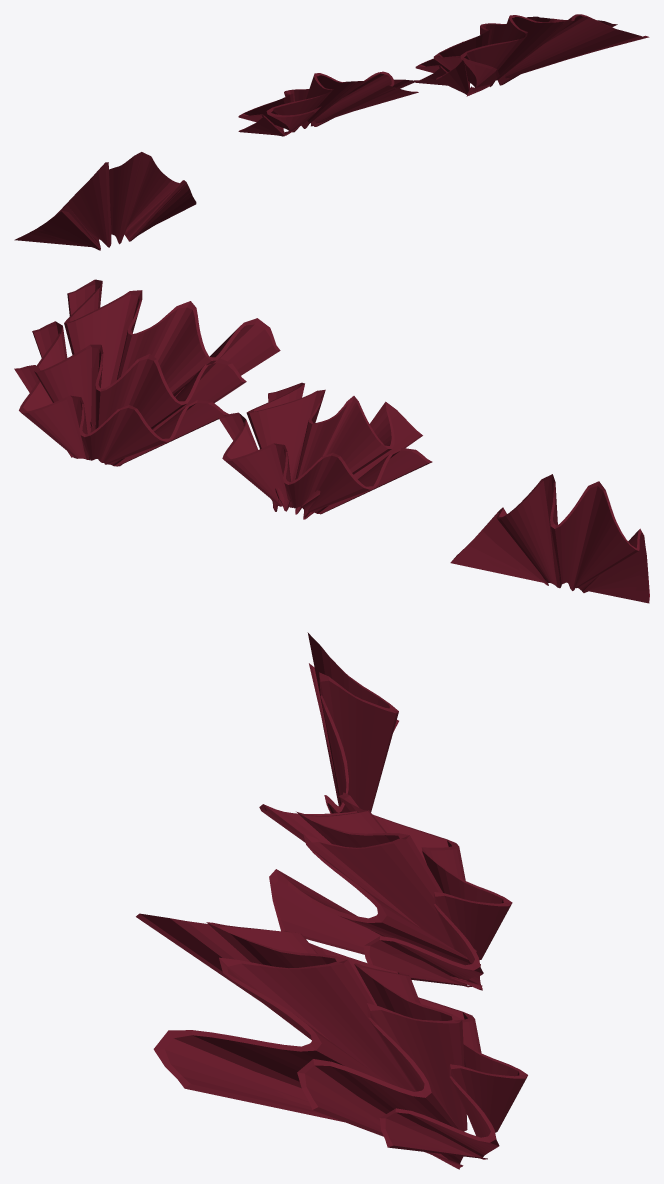
The model's file is CoralSet_05.fbx.
The picture shows the model from 3 angles, top to bottom: view 1: azimuth 30°, elevation 25°; view 2: azimuth 150°, elevation 25°; view 3: azimuth 270°, elevation 25°; orthographic projection. The views are drawn at different scales.
Parts seen in each view (by area): view 1: Coral_E_01, Coral_E_03, Coral_E_02; view 2: Coral_E_01, Coral_E_02, Coral_E_03; view 3: Coral_E_01, Coral_E_02, Coral_E_03.
Part boxes in pixels (left/top/right/bottom): Coral_E_01: left=415, top=14, right=649, bottom=96; Coral_E_03: left=14, top=152, right=196, bottom=250; Coral_E_02: left=238, top=71, right=418, bottom=136; Coral_E_01: left=14, top=279, right=280, bottom=466; Coral_E_02: left=217, top=382, right=432, bottom=519; Coral_E_03: left=450, top=474, right=649, bottom=603; Coral_E_01: left=136, top=913, right=527, bottom=1169; Coral_E_02: left=259, top=792, right=512, bottom=990; Coral_E_03: left=307, top=632, right=398, bottom=813.
Bounding box in the file's own units: 3039 × 732 × 888.
